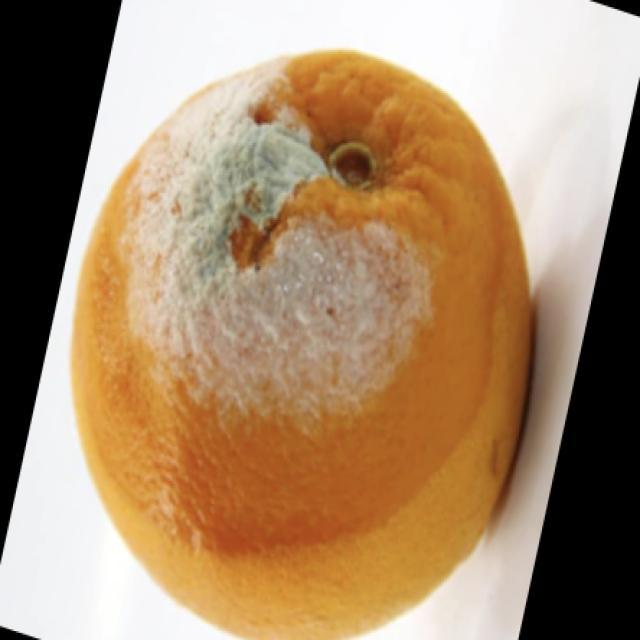sedikit-busuk: (73, 50, 531, 639), (128, 62, 429, 429)
